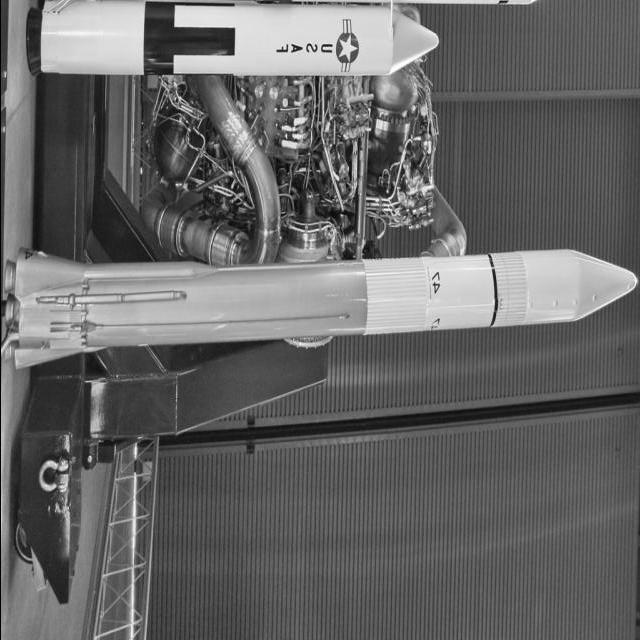missile: (0, 244, 638, 370), (24, 0, 447, 86)
